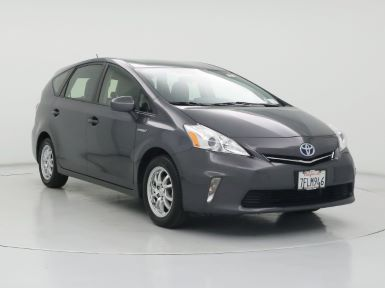Toyota Prius: (29, 54, 358, 231)
